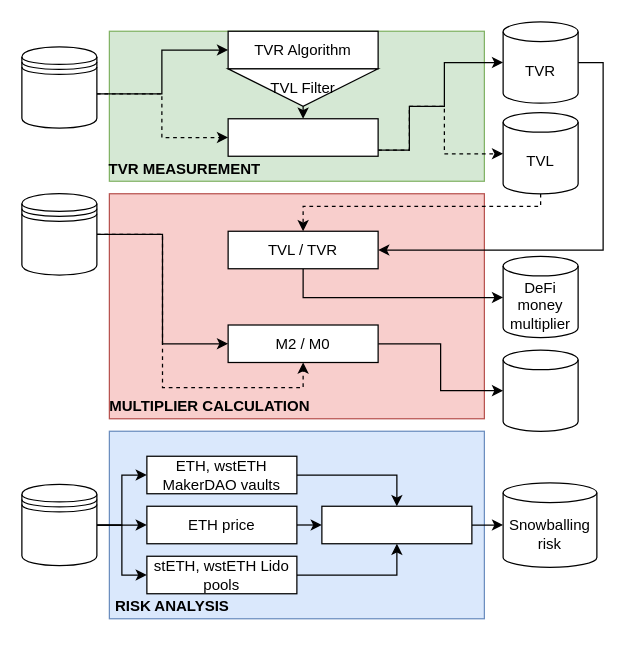
This 635x653 diagram has some shape labels left out. The centre of each missing label's shape, as x and y in pixels:
Data aggregation: (x=302, y=137)
Macro data: (x=59, y=233)
On-chain data: (x=59, y=524)
Sensitivity test: (x=396, y=524)
Tokens breakdown data: (x=59, y=87)
TraFi money multiplier: (x=540, y=390)
